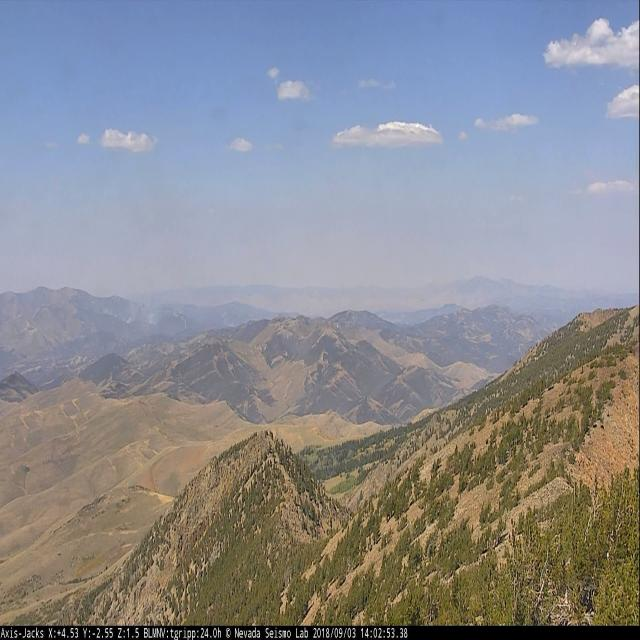smoke: (125, 294, 158, 326)
